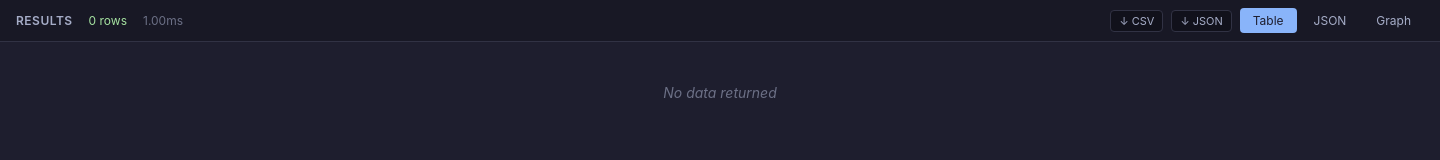
ResultPanel › switches to graph view
Click the button "Graph" at (1394, 20), box top-left (1363, 8), bottom-right (1424, 33)
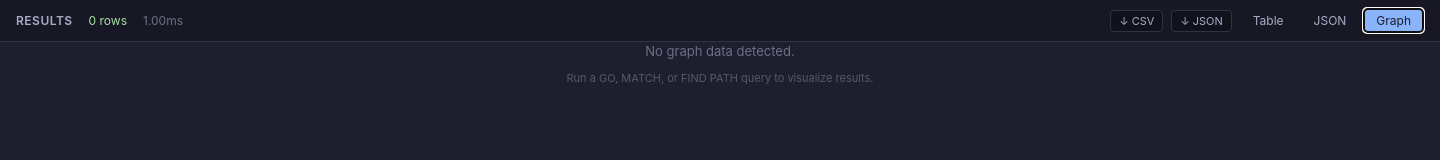
Expected: the text "No graph data detected." is shown, top-left (645, 42), bottom-right (795, 62)
